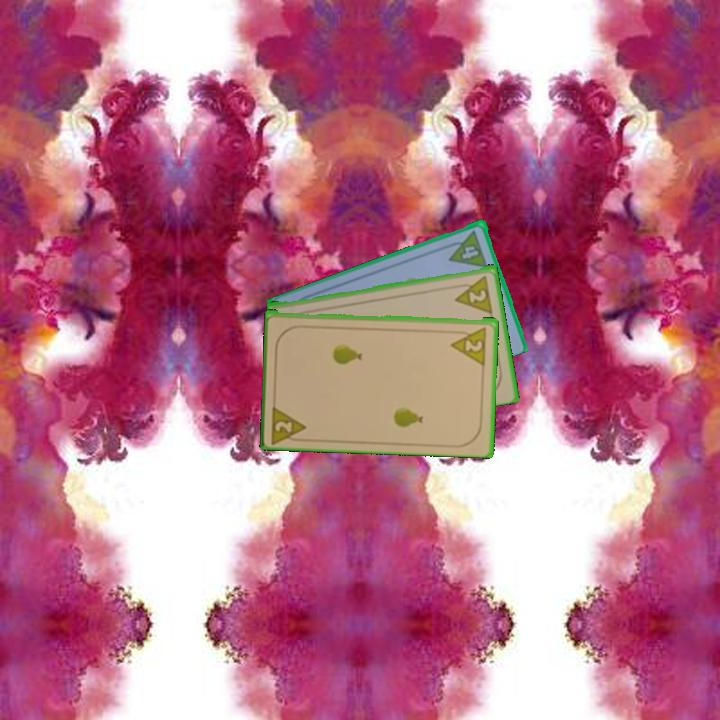2p: (450, 271, 495, 315), (268, 400, 310, 445), (448, 323, 489, 366)
4p: (442, 226, 490, 270)
